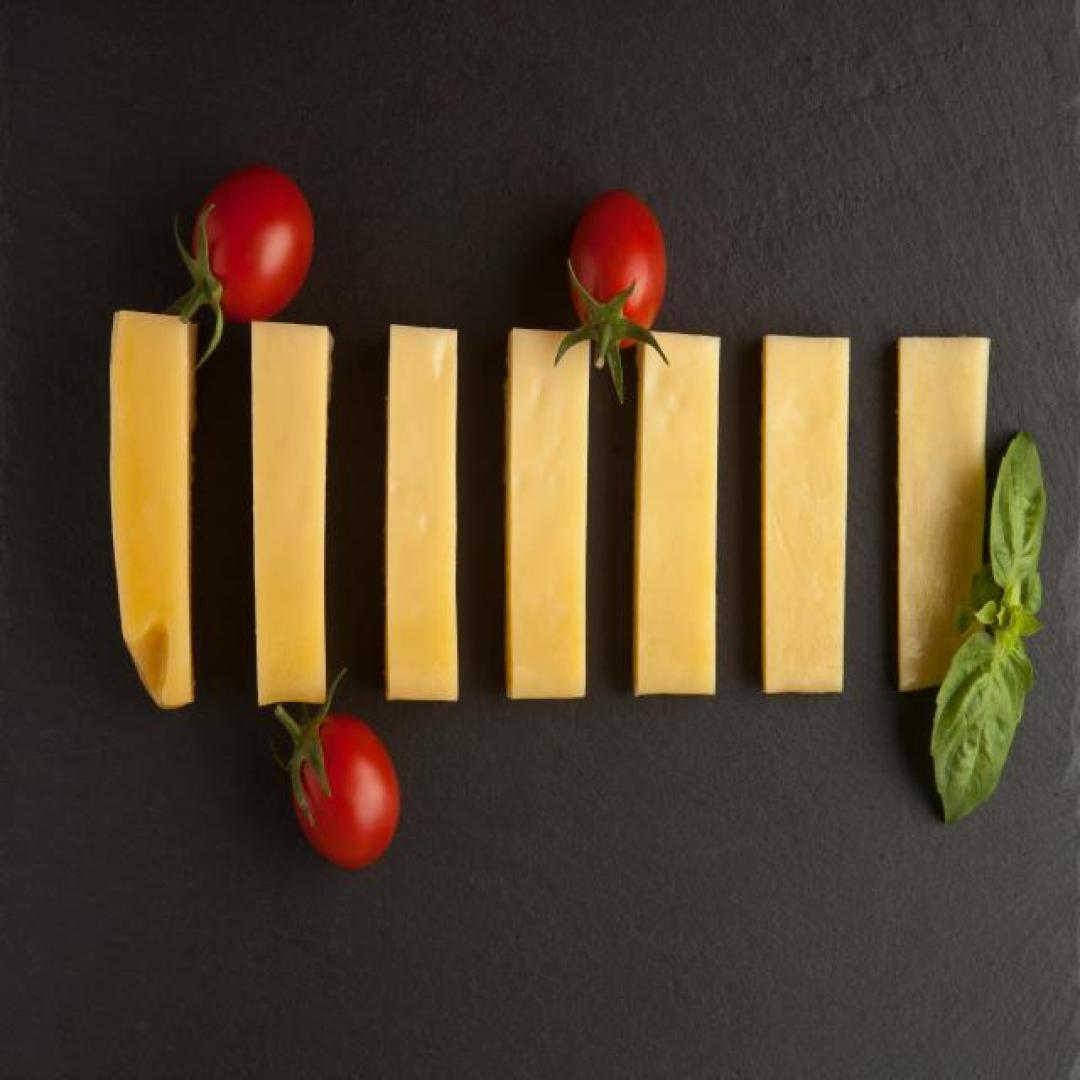matang: (193, 166, 316, 322), (290, 712, 402, 868), (567, 187, 667, 348)
